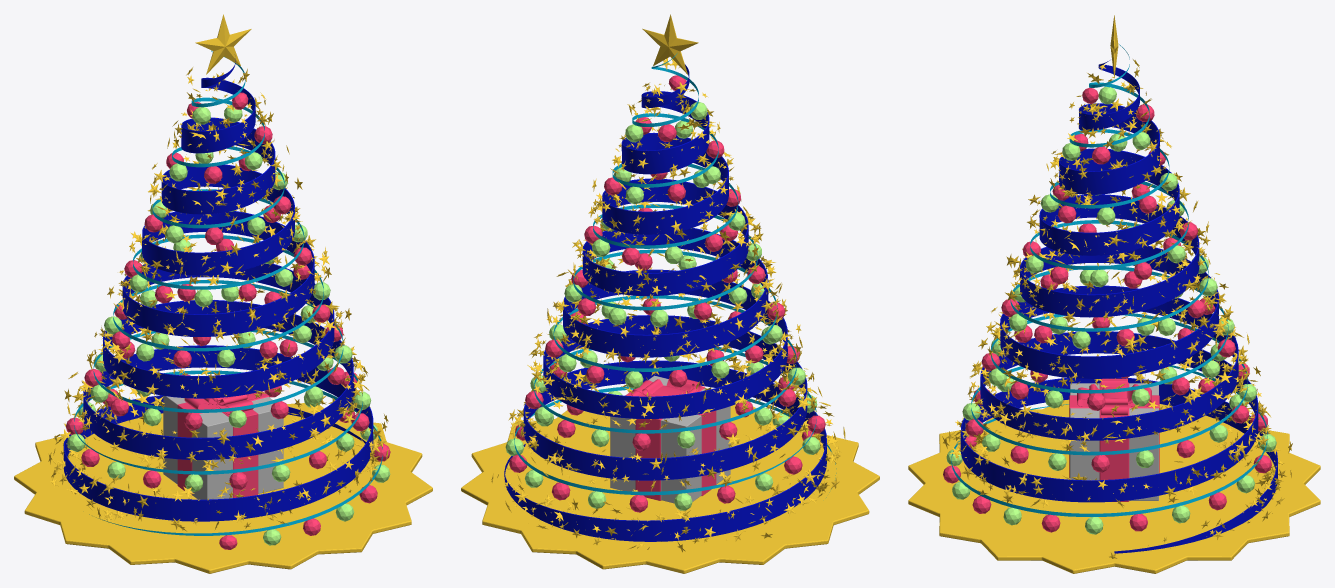
The model's file is obj_choinka_christmas_tree_a17145.glb.
The picture shows the model from 3 angles, left to right: view 1: azimuth 30°, elevation 25°; view 2: azimuth 150°, elevation 25°; view 3: azimuth 270°, elevation 25°; orthographic projection.
Visible parts, largest first — view 1: obj_choinka_christmas_tree_a17145; view 2: obj_choinka_christmas_tree_a17145; view 3: obj_choinka_christmas_tree_a17145.
Part boxes in pixels (bbox=[...]): obj_choinka_christmas_tree_a17145: bbox=[14, 14, 432, 573]; obj_choinka_christmas_tree_a17145: bbox=[461, 14, 879, 573]; obj_choinka_christmas_tree_a17145: bbox=[908, 15, 1320, 573].
Size of the model in its own units: 1.4 by 1.8 by 1.4.
